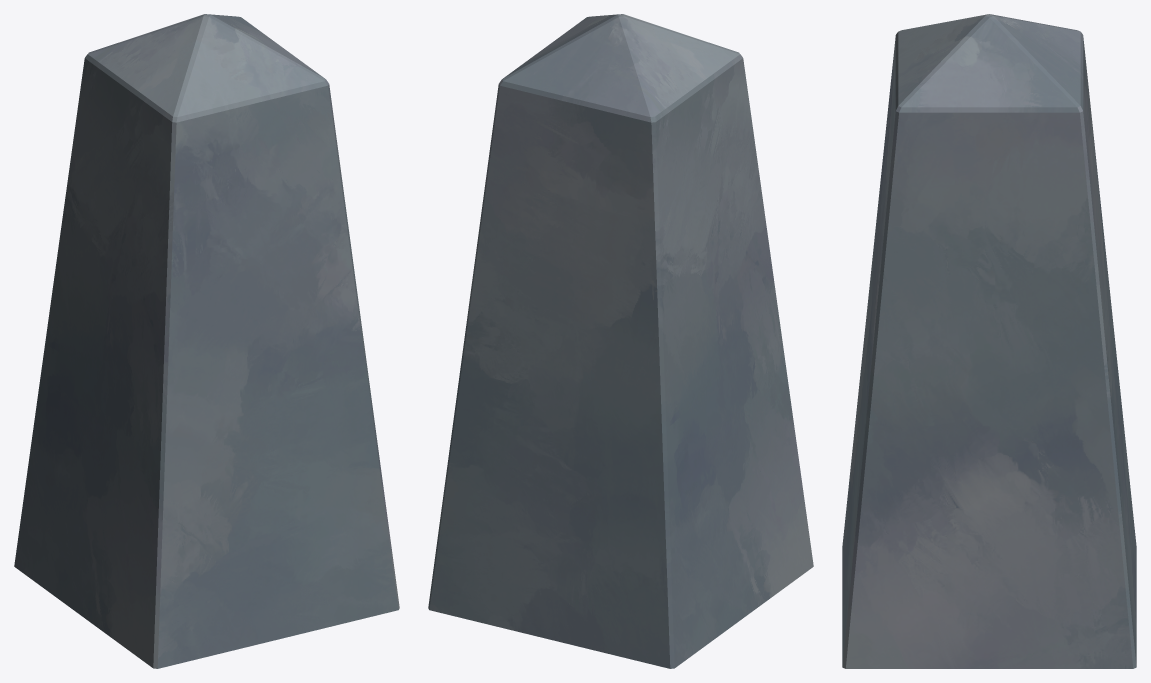
3 renders of one model, left to right at view 1: azimuth 30°, elevation 25°; view 2: azimuth 150°, elevation 25°; view 3: azimuth 270°, elevation 25°, orthographic. The views are drawn at different scales.
Visible parts, largest first — view 1: Pyramid; view 2: Pyramid; view 3: Pyramid.
Boxes of the visible parts, x1,y1,x2,y2 form: Pyramid: (14,14,399,668); Pyramid: (428,14,813,668); Pyramid: (842,14,1136,668).
Size of the model in its own units: 44.44 by 98.54 by 44.44.
